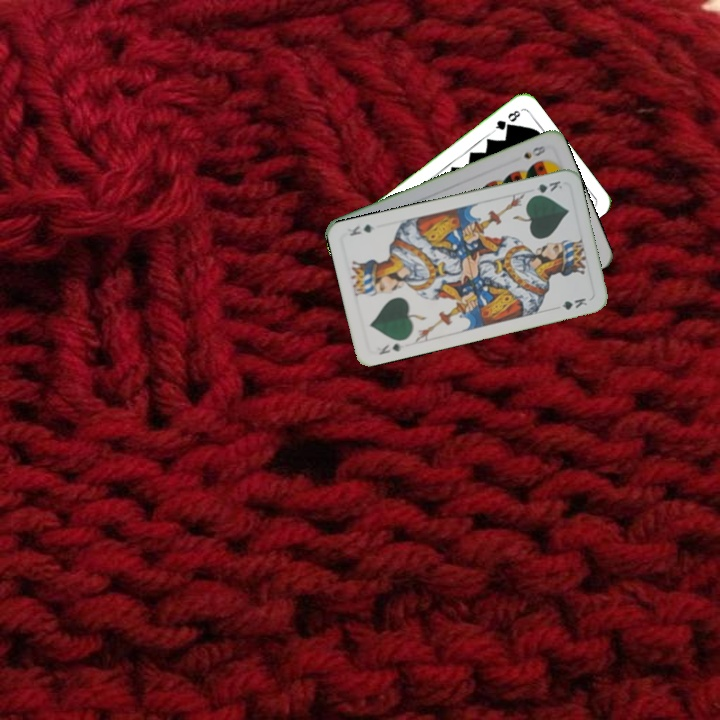G8: (489, 106, 523, 135)
GK: (527, 177, 565, 199), (375, 339, 406, 357)
S8: (519, 141, 548, 162)
